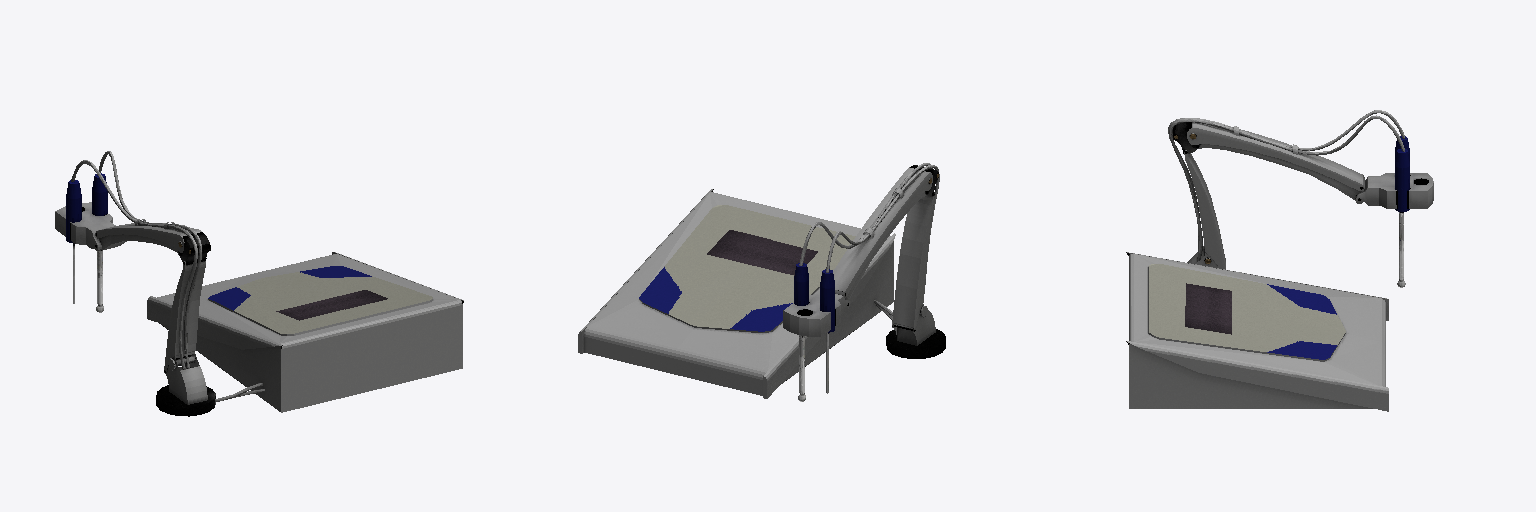
The picture shows the model from 3 angles: view 1: azimuth 30°, elevation 25°; view 2: azimuth 150°, elevation 25°; view 3: azimuth 270°, elevation 25°; orthographic projection.
Parts seen in each view (by area): view 1: Cube.034_Cube.035; view 2: Cube.034_Cube.035; view 3: Cube.034_Cube.035.
Boxes of the visible parts, x1=… form: Cube.034_Cube.035: x1=55, y1=151, x2=463, y2=416; Cube.034_Cube.035: x1=578, y1=163, x2=945, y2=401; Cube.034_Cube.035: x1=1126, y1=110, x2=1433, y2=411.
Bounding box in the file's own units: 2.2 × 1.44 × 2.17.
Materials: 1 (1 with a texture image).